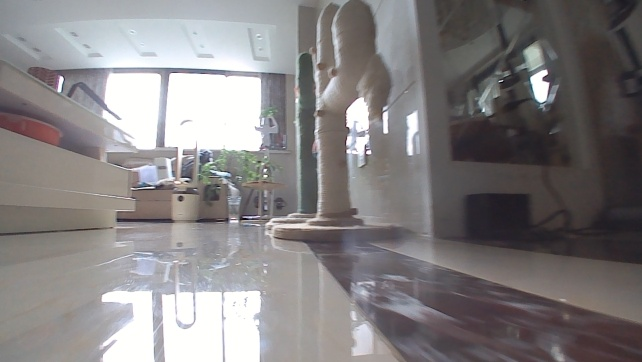tea_table1: (0, 58, 136, 237)
